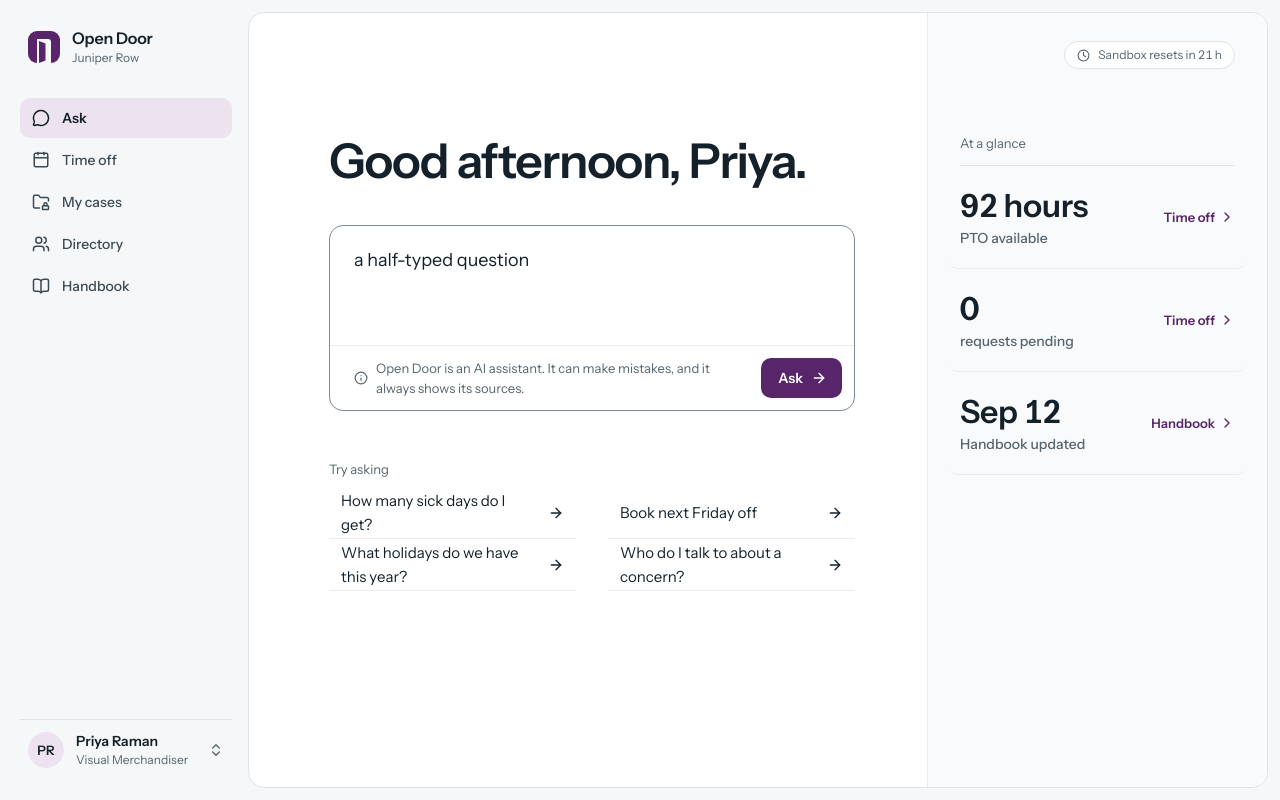
Test case: the shell: signing out › goes to the landing page with the state cleared
This screenshot has width=1280, height=800.
Check: the element named "Sidebar" is shown, box [0, 0, 248, 799]
What coordinates should you click on to do the following:
click the button named "Switch persona"
I would click on:
 (126, 750)
Its box is [20, 719, 232, 780].
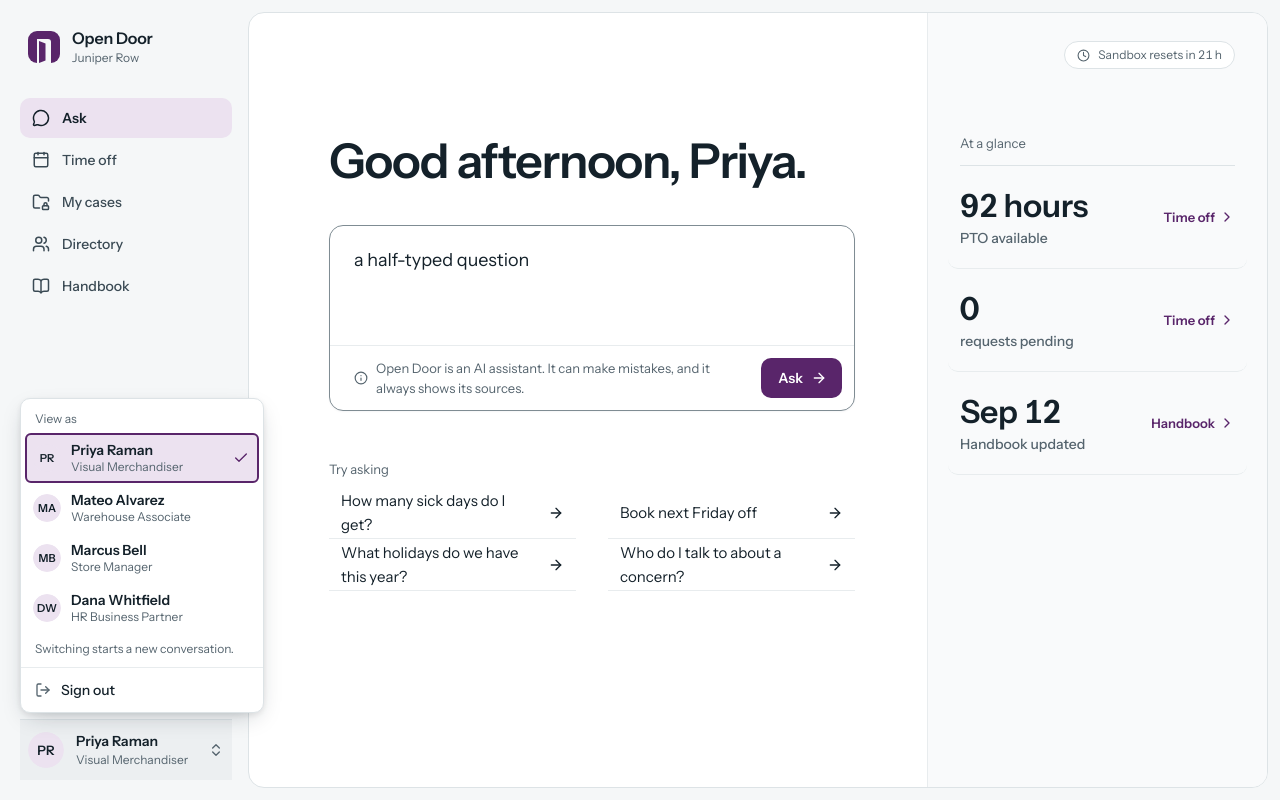
What coordinates should you click on to do the following:
click the menu item "Sign out"
I would click on:
 (75, 690)
Its box is [35, 681, 115, 699].
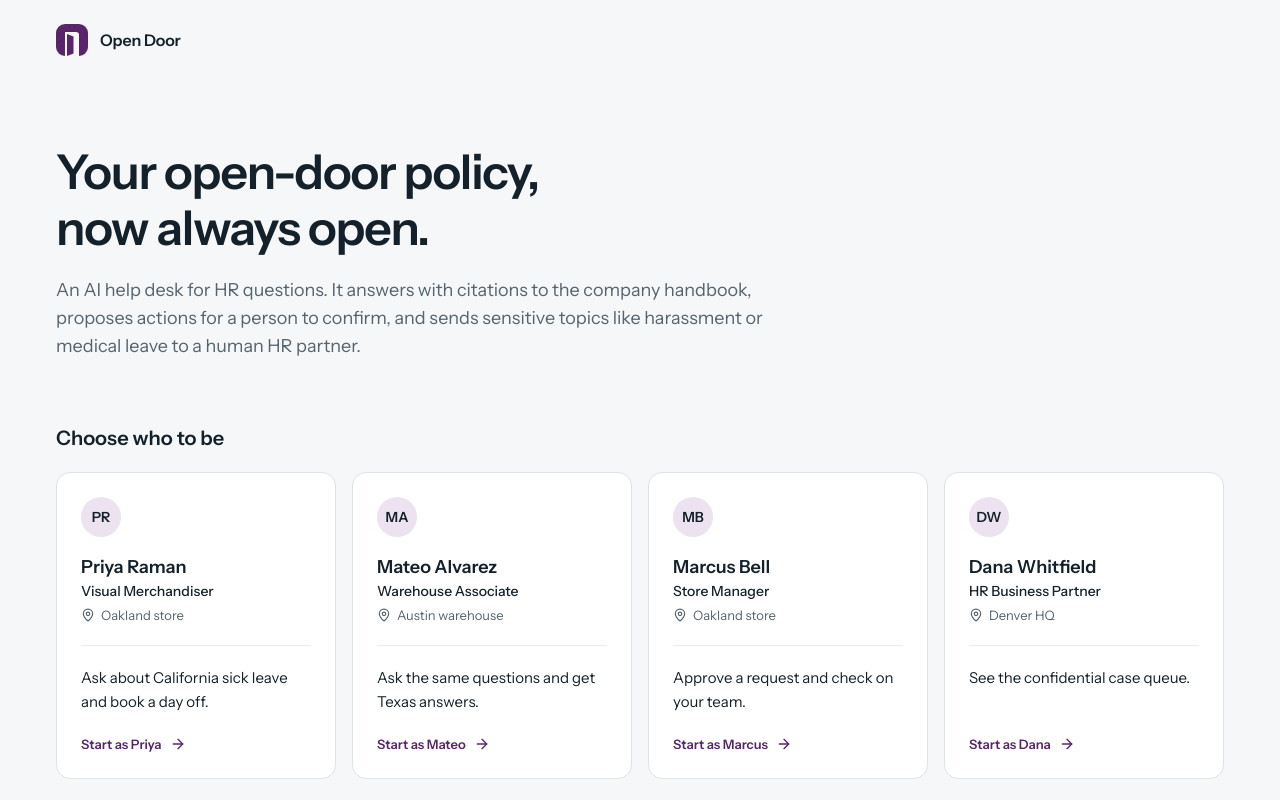
Check: the heading "Your open-door policy, now always open." is shown, box [56, 142, 539, 257]
